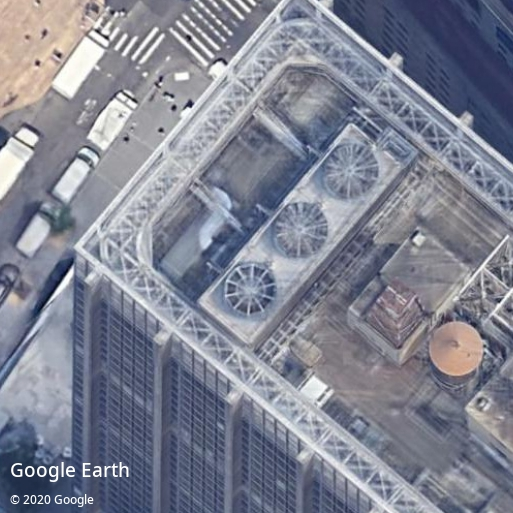Vent: (325, 142, 379, 198), (275, 202, 328, 259), (225, 264, 277, 317)
